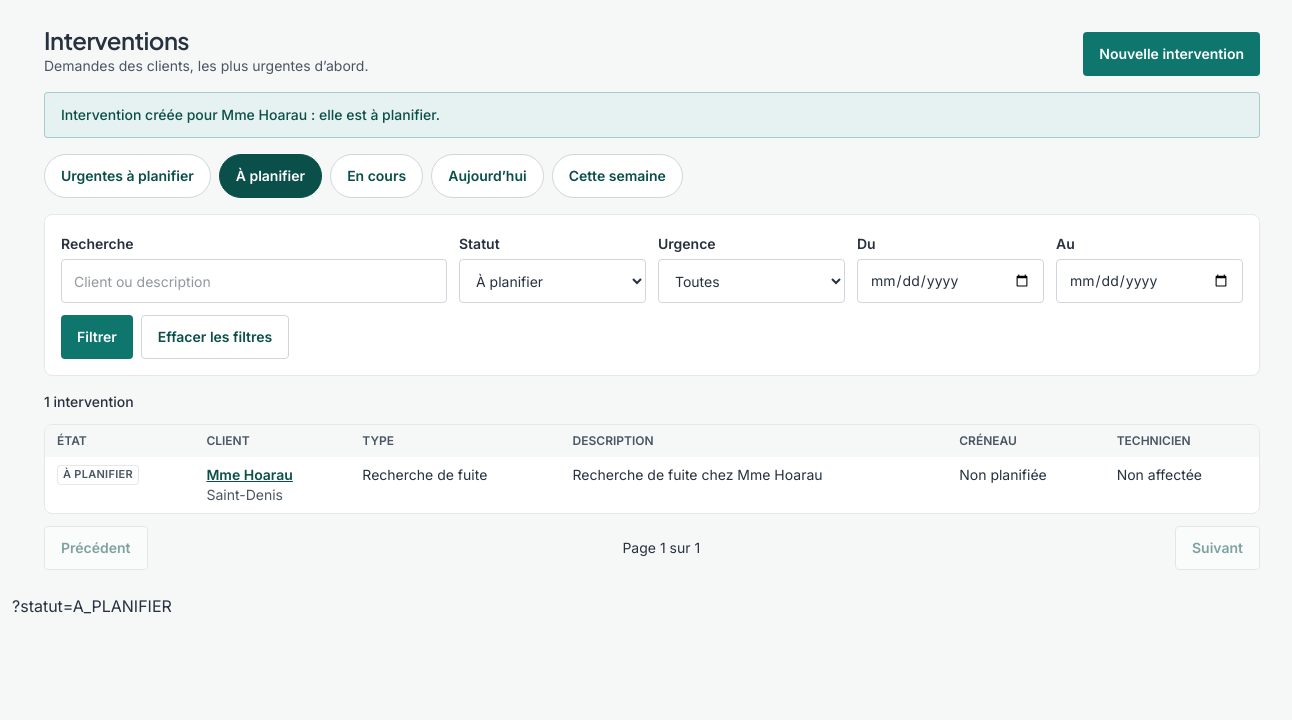
Test: liste des interventions (US15) › US14 : confirme la création, puis retire le message dès qu’un filtre change
The width and height of the screenshot is (1292, 720).
Select "Urgente" in the dropdown labelled "Urgence": (752, 281) top-left (658, 259), bottom-right (845, 303)
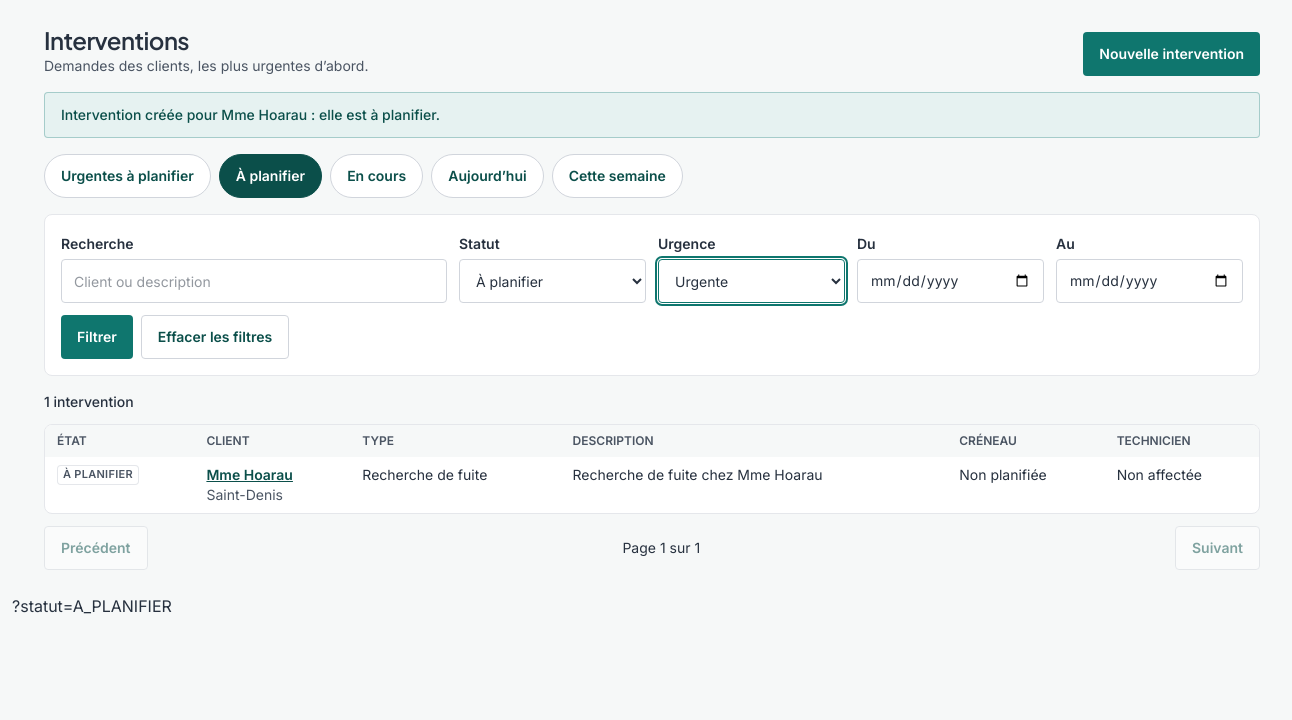
Click the button "Filtrer": (97, 337) top-left (61, 315), bottom-right (133, 359)
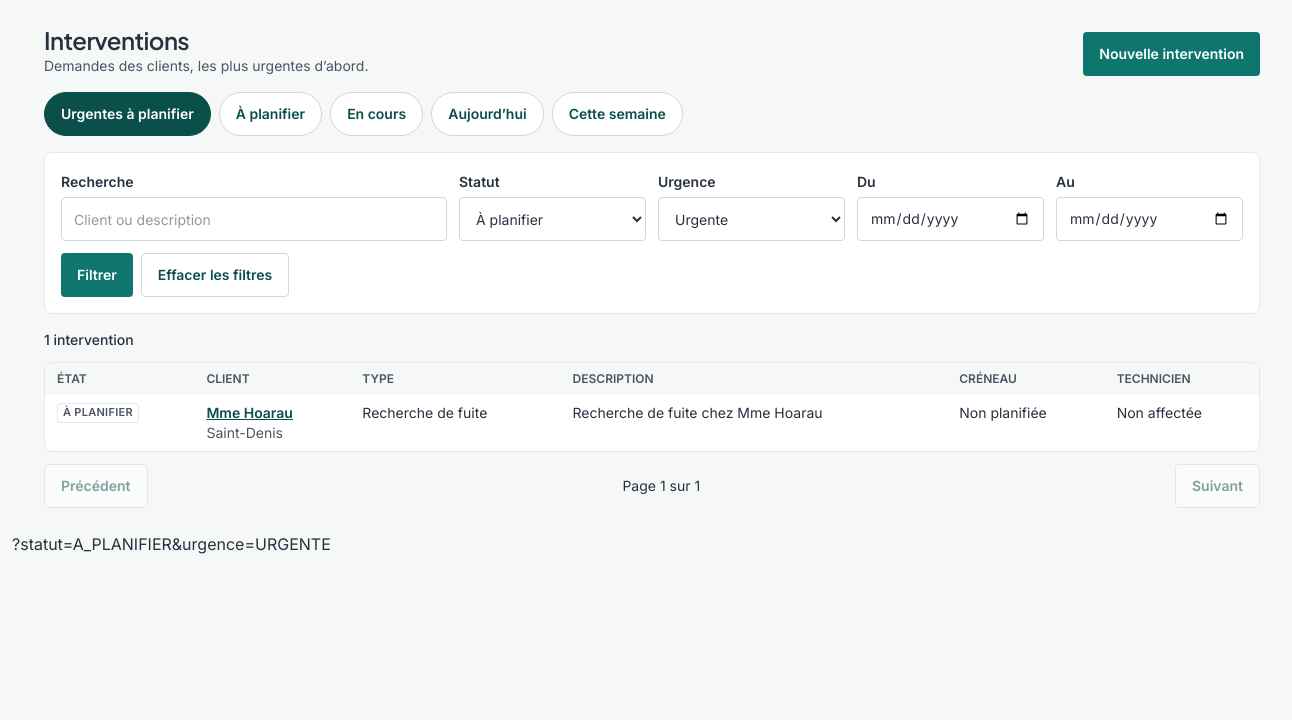
Expected: the table is shown, top-left (45, 363), bottom-right (1259, 451)
Expected: the text "Intervention créée pour Mme Hoarau : elle est à planifier." is gone
